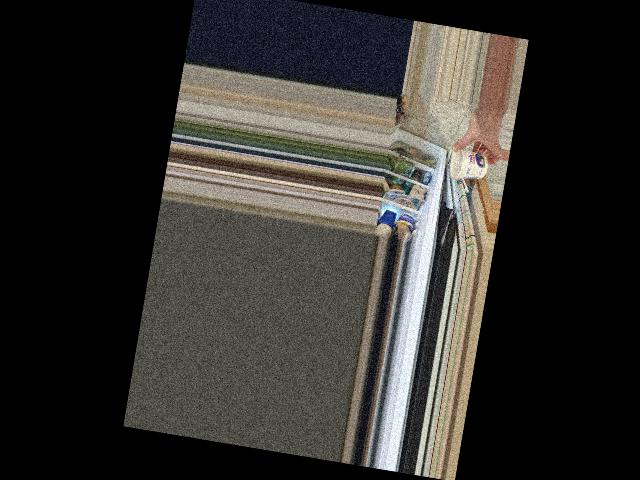cotage: (447, 146, 491, 183)
